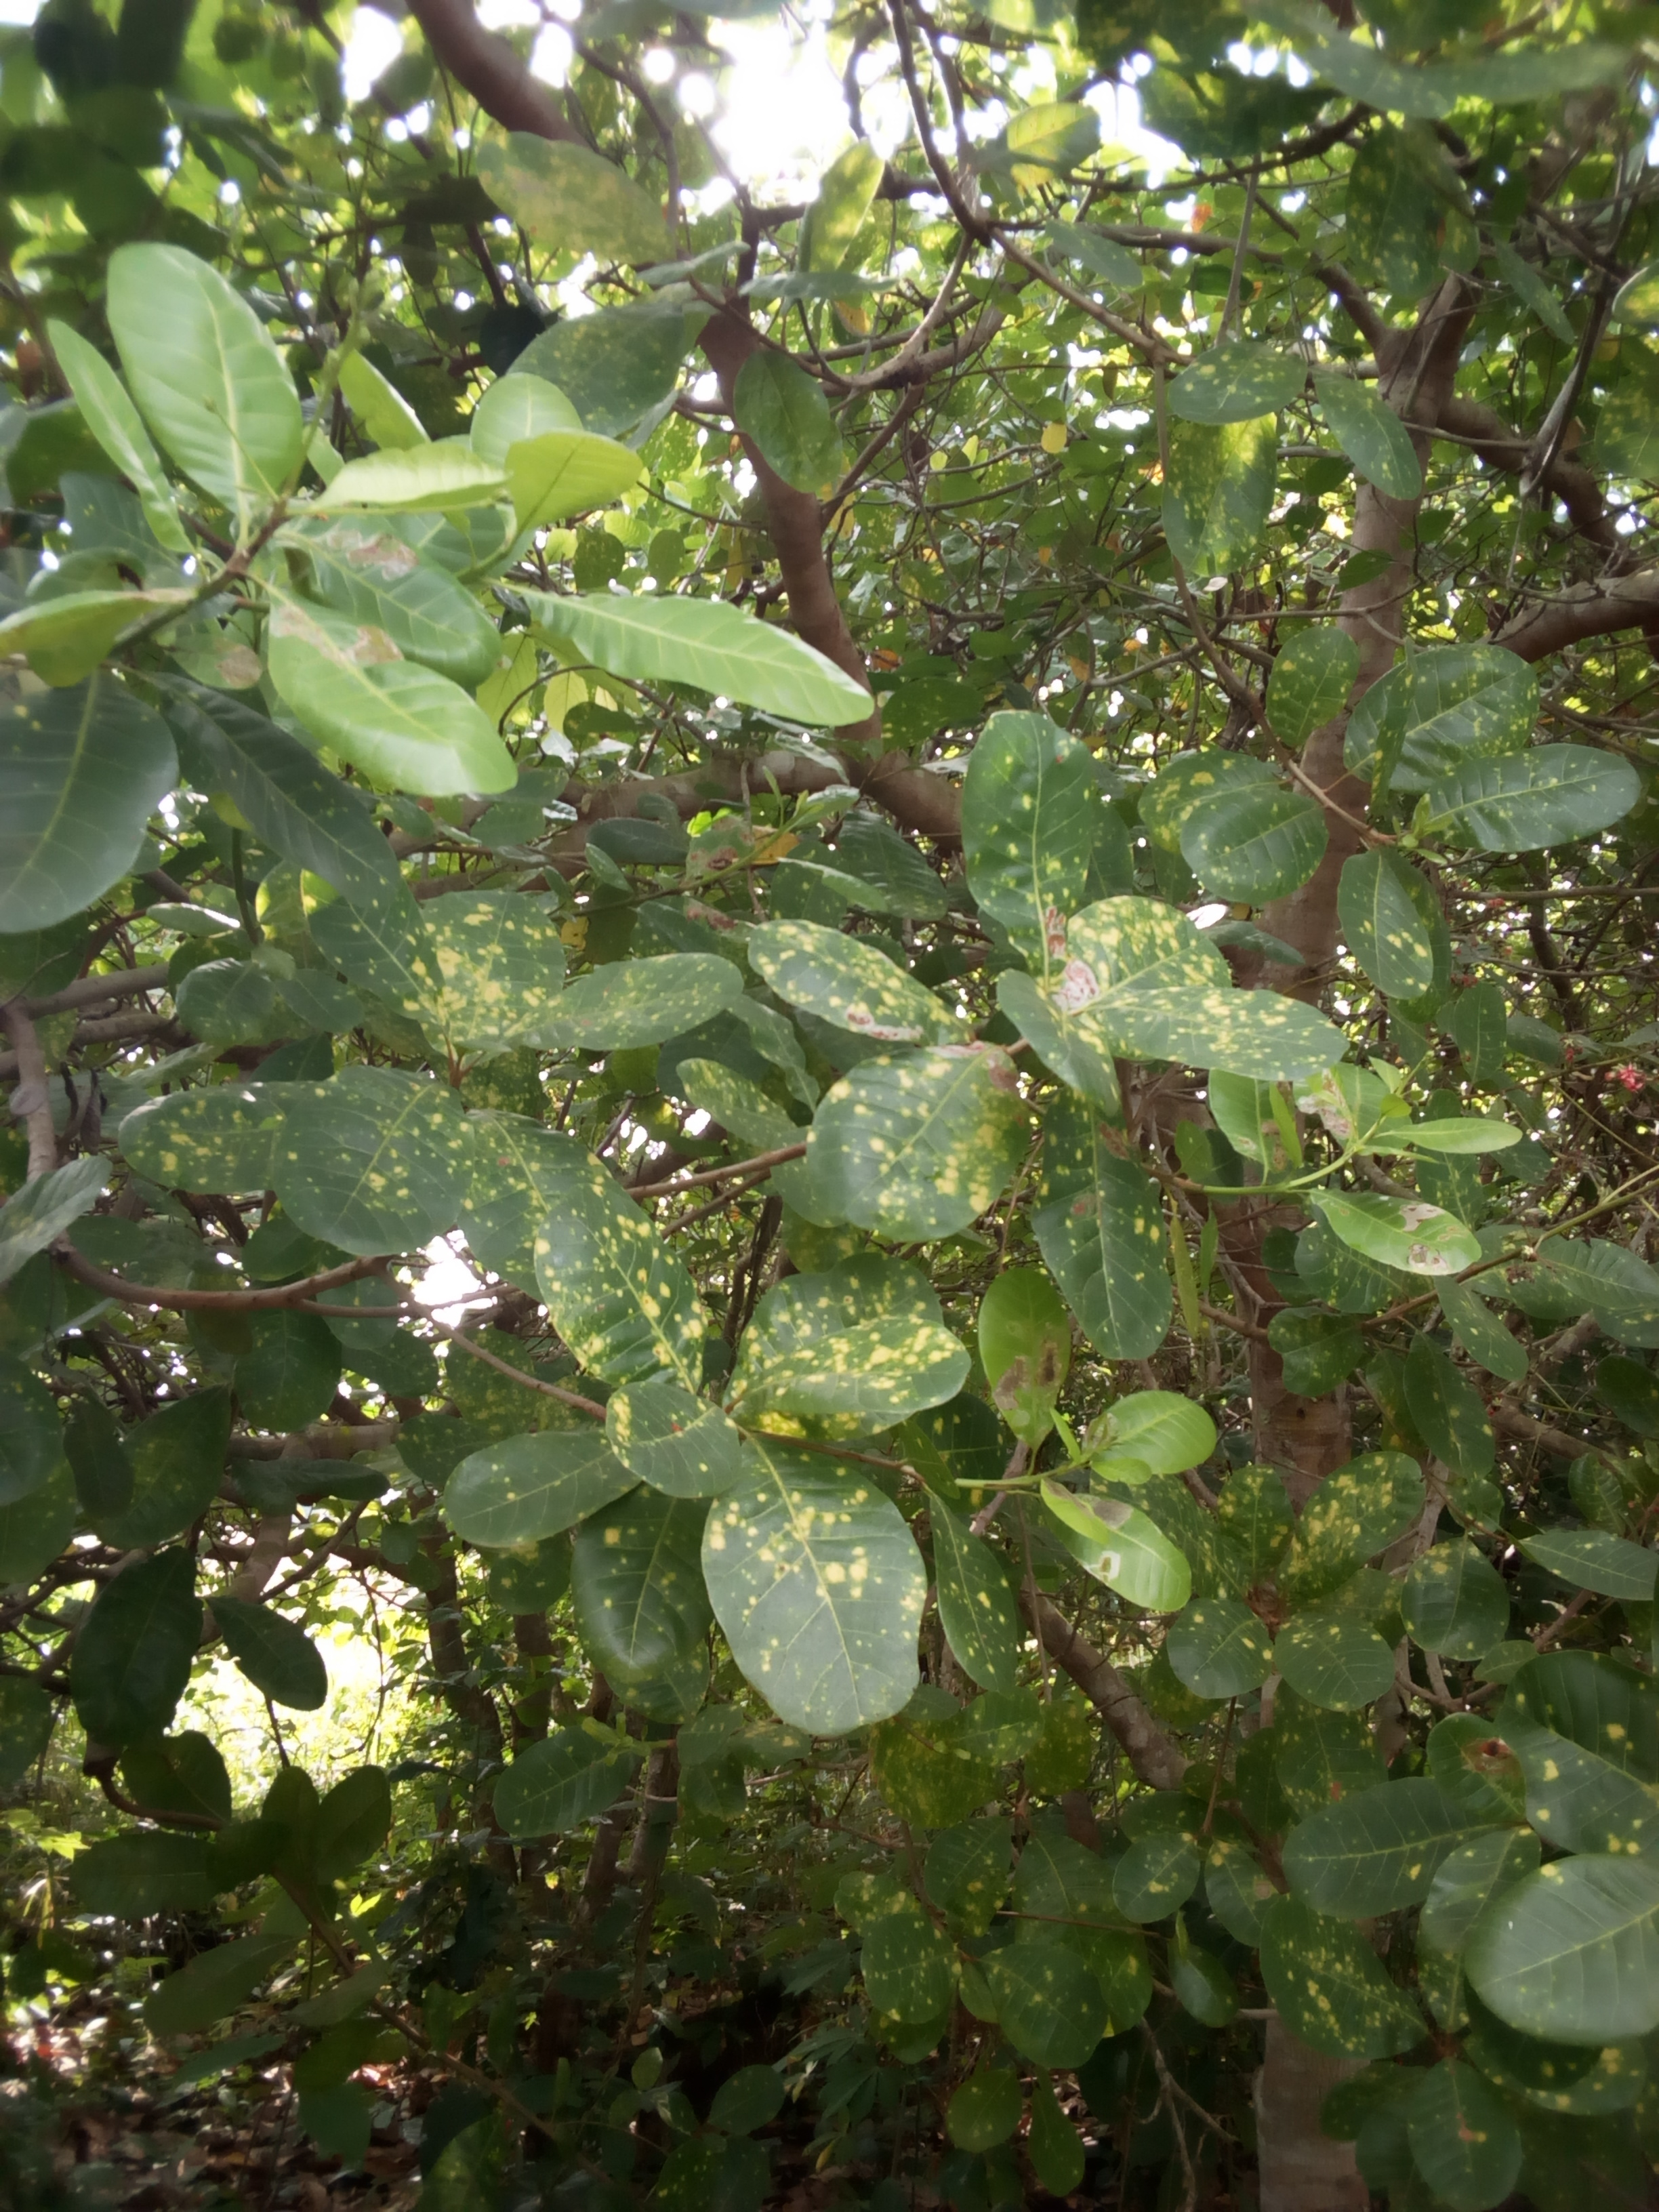Carence minérale: (1037, 892, 1429, 1099), (694, 1446, 938, 1740), (521, 1160, 758, 1400), (796, 1031, 1049, 1256), (413, 855, 626, 1099), (1253, 1404, 1446, 1655), (941, 697, 1117, 951), (98, 1052, 305, 1259), (1023, 1120, 1199, 1350), (305, 1049, 477, 1268), (739, 920, 1012, 1052), (1349, 641, 1568, 780), (399, 1447, 674, 1554), (1290, 1174, 1521, 1289), (1148, 449, 1270, 618), (1500, 1224, 1659, 1346), (1168, 336, 1310, 439)
